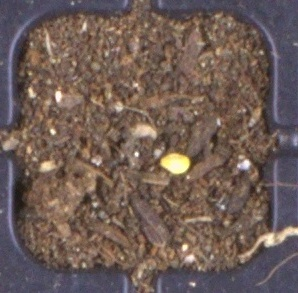chilli seed: (159, 153, 191, 176)
